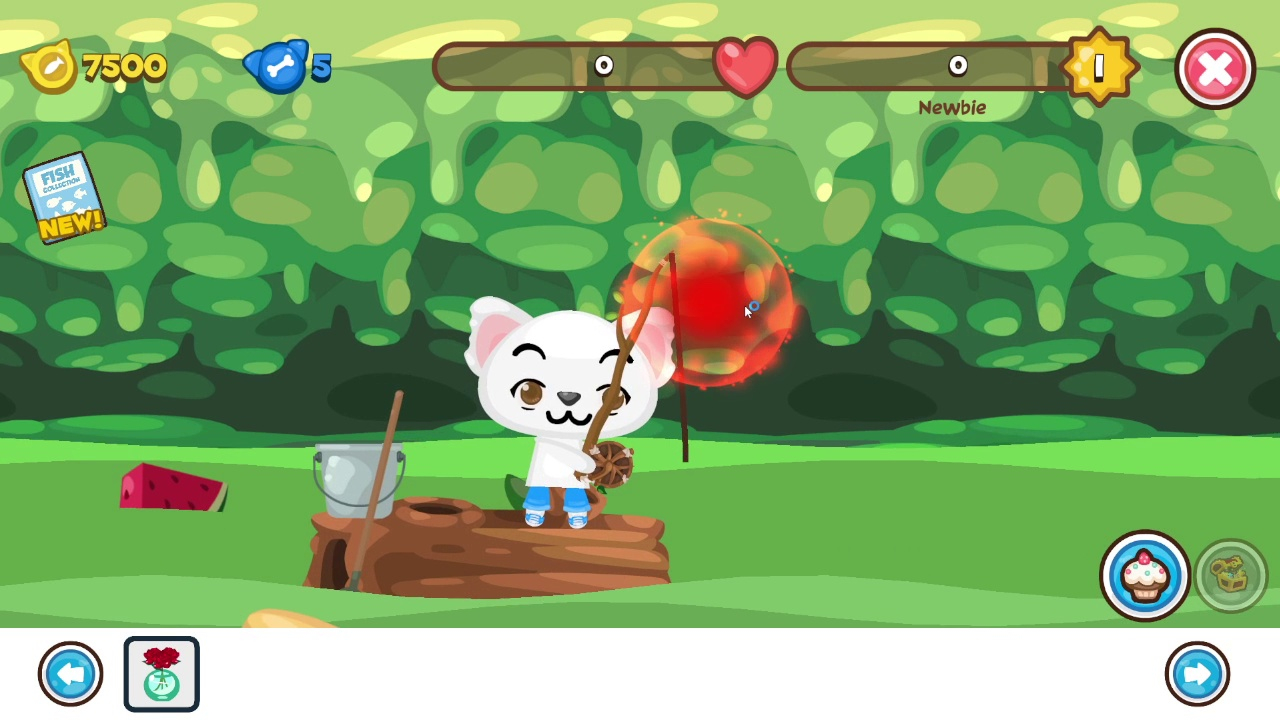point: (621, 217, 798, 388)
